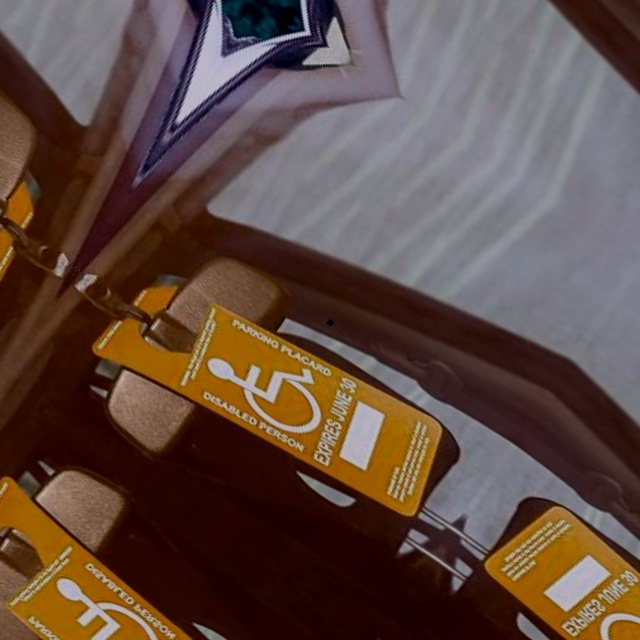ISA: (197, 319, 343, 451), (29, 564, 175, 640), (584, 585, 640, 640)
